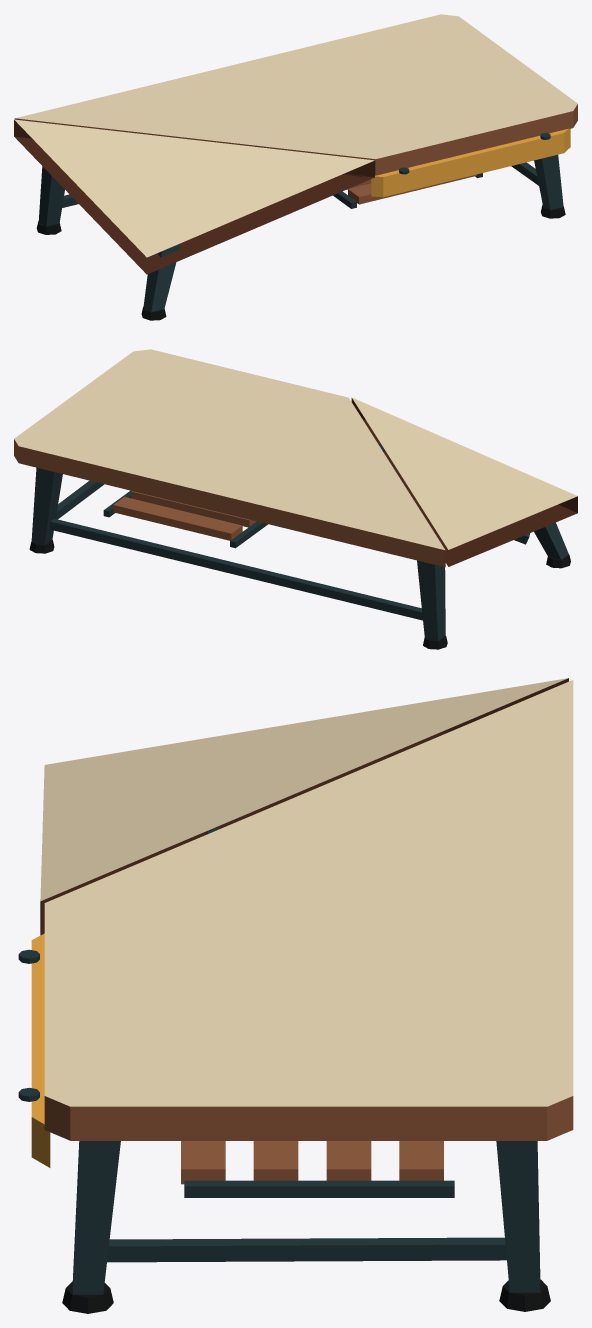
File: counter_station_core.obj
3 renders of one model, top to bottom at view 1: azimuth 30°, elevation 25°; view 2: azimuth 150°, elevation 25°; view 3: azimuth 270°, elevation 25°, orthographic. The views are drawn at different scales.
Visible parts, largest first — view 1: IntactCountertop, BrokenCornerFlap, FrontAccent, RightFrontLeg, DamagedFrontLeg, LeftRearLeg, RubberFoot, UnderShelfSlat3; view 2: IntactCountertop, BrokenCornerFlap, RearLowerRail, UnderShelfSlat0, LeftRearLeg, RightRearLeg, UnderShelfSlat1, DamagedFrontLeg, RubberFoot, RightLowerRail; view 3: IntactCountertop, BrokenCornerFlap, RightLowerRail, RightFrontLeg, RightRearLeg, UnderShelfRightSupport, FrontAccent, RubberFoot, UnderShelfSlat1, UnderShelfSlat2, UnderShelfSlat3, UnderShelfSlat0.
Boxes of the visible parts, x1,y1,x2,y2 form: IntactCountertop: [14, 14, 577, 175]; BrokenCornerFlap: [14, 119, 374, 274]; FrontAccent: [371, 128, 570, 197]; RightFrontLeg: [534, 154, 563, 210]; DamagedFrontLeg: [143, 244, 180, 312]; LeftRearLeg: [38, 166, 64, 226]; RubberFoot: [36, 204, 565, 320]; UnderShelfSlat3: [348, 174, 476, 204]; IntactCountertop: [14, 349, 445, 567]; BrokenCornerFlap: [351, 397, 577, 566]; RearLowerRail: [49, 518, 422, 620]; UnderShelfSlat0: [113, 496, 242, 540]; LeftRearLeg: [417, 548, 445, 640]; RightRearLeg: [31, 467, 62, 545]; UnderShelfSlat1: [131, 491, 256, 527]; DamagedFrontLeg: [534, 522, 568, 559]; RubberFoot: [29, 540, 570, 649]; RightLowerRail: [56, 480, 104, 519]; IntactCountertop: [44, 680, 573, 1140]; BrokenCornerFlap: [40, 678, 568, 935]; RightLowerRail: [107, 1237, 506, 1262]; RightFrontLeg: [72, 1141, 120, 1294]; RightRearLeg: [496, 1141, 540, 1292]; UnderShelfRightSupport: [184, 1180, 454, 1197]; FrontAccent: [31, 933, 50, 1167]; RubberFoot: [62, 1279, 550, 1313]; UnderShelfSlat1: [326, 1141, 371, 1180]; UnderShelfSlat2: [253, 1141, 298, 1180]; UnderShelfSlat3: [181, 1141, 225, 1184]; UnderShelfSlat0: [399, 1141, 443, 1180].
Bounding box in the file's own units: 4.32 × 1.01 × 2.36.
